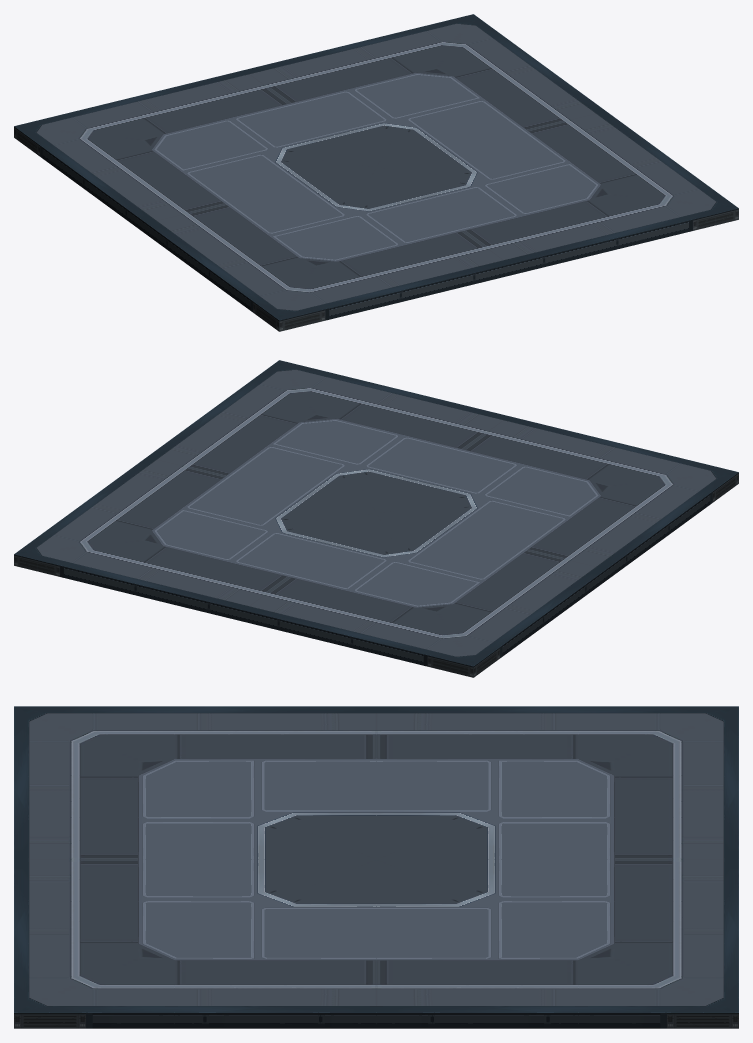
The model's file is my_carrier_01_tile_20x20.glb.
3 renders of one model, top to bottom at view 1: azimuth 30°, elevation 25°; view 2: azimuth 150°, elevation 25°; view 3: azimuth 270°, elevation 25°, orthographic. The views are drawn at different scales.
Parts seen in each view (by area): view 1: my_carrier_01_tile_20x20; view 2: my_carrier_01_tile_20x20; view 3: my_carrier_01_tile_20x20.
Boxes of the visible parts, left/top/right/bottom form: my_carrier_01_tile_20x20: left=14, top=14, right=738, bottom=331; my_carrier_01_tile_20x20: left=14, top=360, right=738, bottom=677; my_carrier_01_tile_20x20: left=14, top=706, right=738, bottom=1028.
Size of the model in its own units: 0.12 by 0.00285 by 0.12.
1 material, 1 textured.
